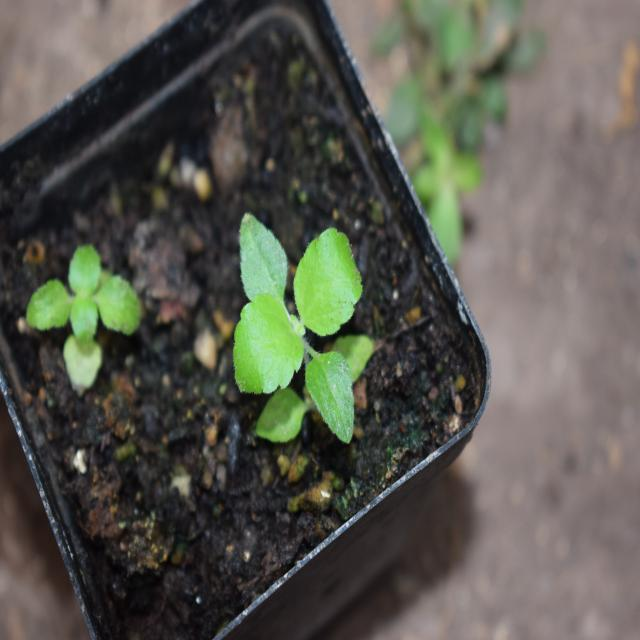billygoat_weed: (229, 205, 383, 446), (35, 223, 136, 371)
